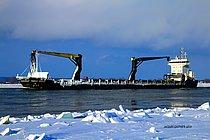Ship: (15, 47, 202, 92)
